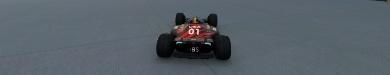Car: (155, 12, 231, 59)
